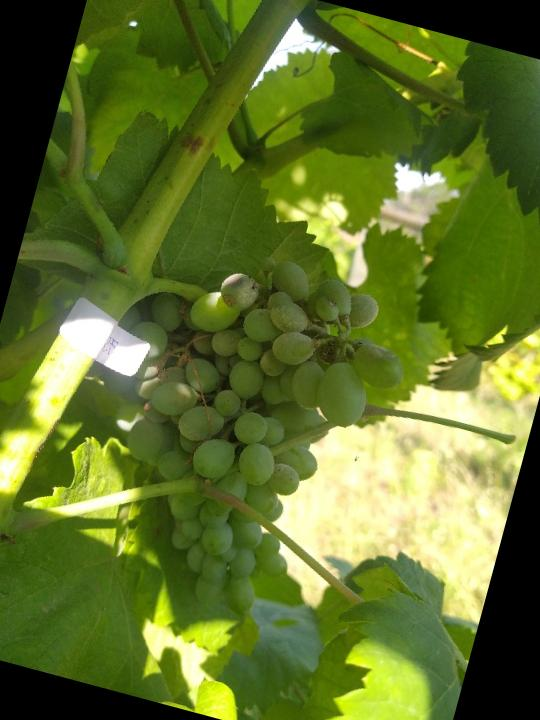grape: (47, 213, 433, 648)
